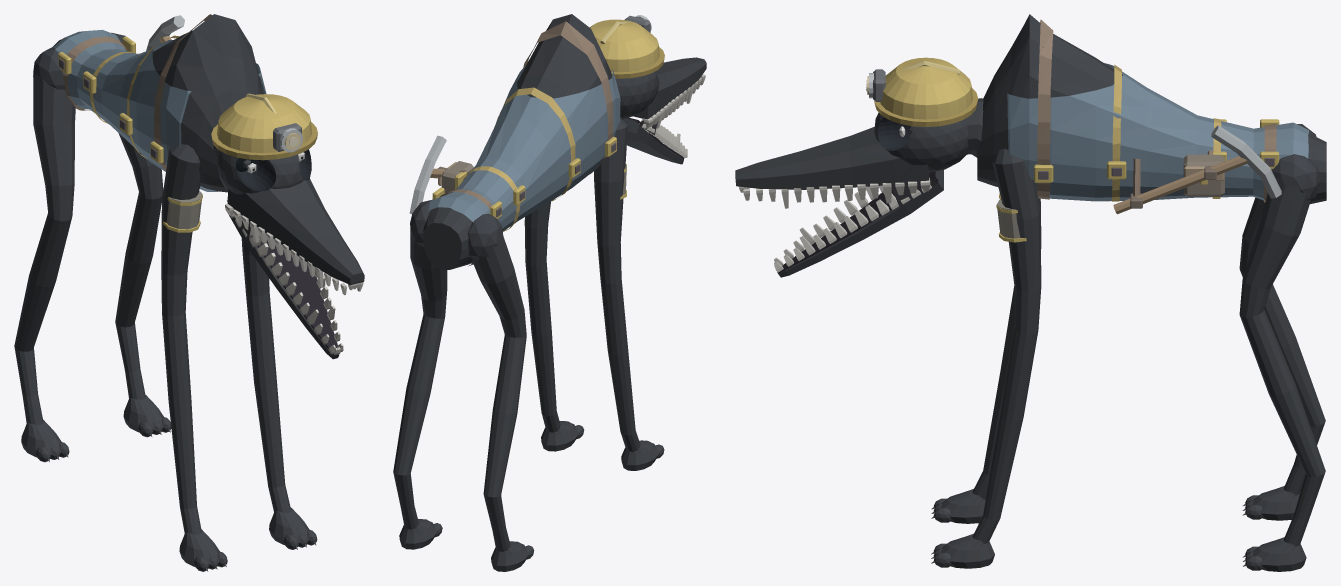
File: LongmawMiner.glb
The picture shows the model from 3 angles, left to right: view 1: azimuth 30°, elevation 25°; view 2: azimuth 150°, elevation 25°; view 3: azimuth 270°, elevation 25°; orthographic projection. The views are drawn at different scales.
Parts seen in each view (by area): view 1: Body, Head, LegR, ArmR, LegL, ArmL; view 2: Body, LegR, Head, ArmR, LegL, ArmL; view 3: Body, Head, LegL, ArmL, LegR, ArmR.
Part boxes in pixels (x1,y1,x2,y2): Body: [52, 14, 266, 192]; Head: [211, 93, 364, 359]; LegR: [14, 47, 75, 462]; ArmR: [161, 144, 227, 571]; LegL: [111, 32, 171, 437]; ArmL: [241, 238, 317, 549]; Body: [409, 14, 620, 269]; LegR: [468, 213, 534, 571]; Head: [590, 15, 706, 164]; ArmR: [594, 118, 664, 470]; LegL: [393, 199, 447, 549]; ArmL: [524, 201, 584, 451]; Body: [977, 14, 1326, 214]; Head: [735, 57, 983, 277]; LegL: [1239, 154, 1325, 571]; ArmL: [931, 148, 1041, 568]; LegR: [1239, 124, 1325, 520]; ArmR: [931, 193, 1041, 523].
Size of the model in its own units: 1.9 by 6.9 by 7.03.
